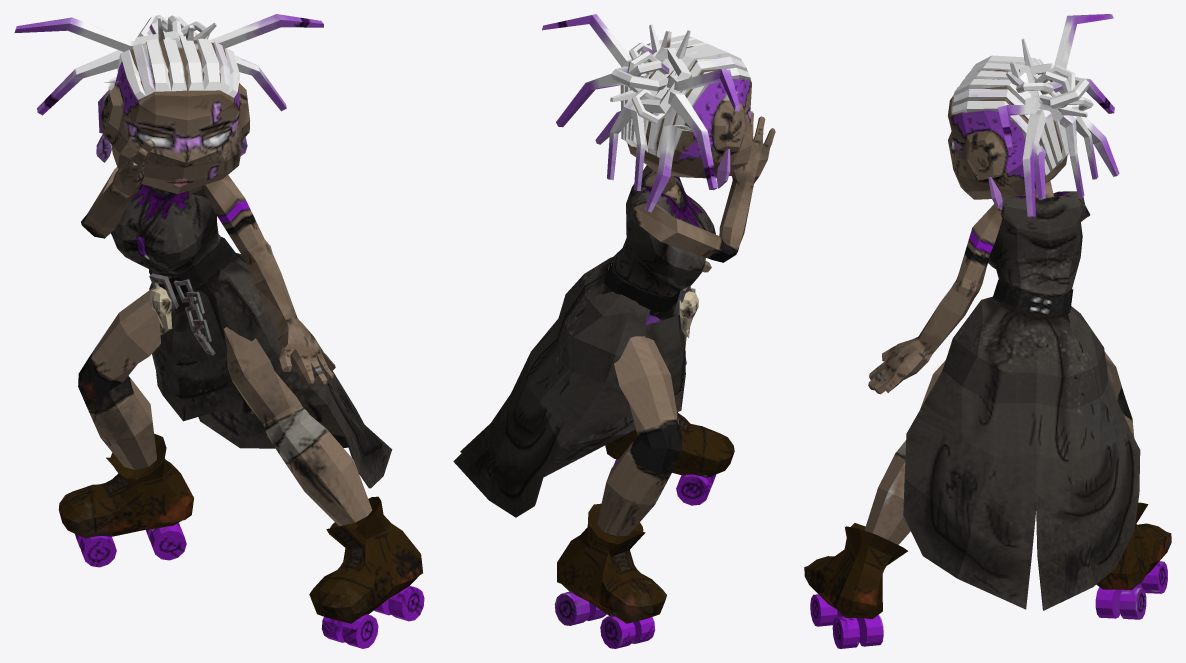
File: bruja_000072.obj
3 renders of one model, left to right at view 1: azimuth 30°, elevation 25°; view 2: azimuth 150°, elevation 25°; view 3: azimuth 270°, elevation 25°, orthographic. The views are drawn at different scales.
Visible parts, largest first — view 1: Bruja_Plane.001; view 2: Bruja_Plane.001; view 3: Bruja_Plane.001.
Part boxes in pixels (box(x1,y1,x2,y2)): Bruja_Plane.001: box(14, 14, 424, 648); Bruja_Plane.001: box(453, 14, 775, 648); Bruja_Plane.001: box(804, 14, 1171, 648).
Bounding box in the file's own units: 9.14 × 15.42 × 9.26.
